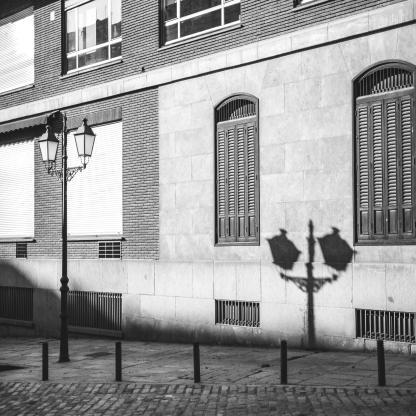light_pole: (39, 113, 97, 363)
